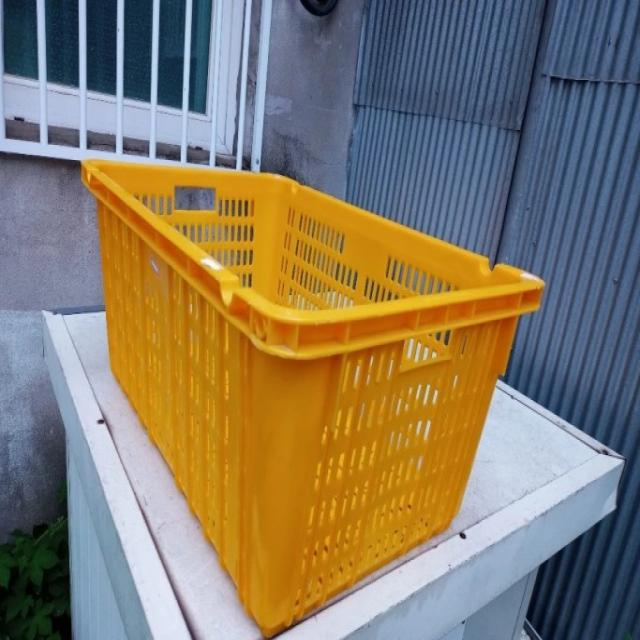basket: (0, 108, 547, 640)
